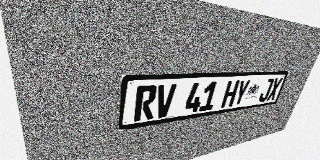1: (199, 81, 219, 112)
4: (184, 82, 205, 114)
H: (221, 80, 240, 108)
J: (258, 78, 275, 102)
R: (134, 85, 158, 122)
V: (154, 84, 177, 119)
X: (266, 78, 283, 101)
Y: (232, 80, 251, 106)
